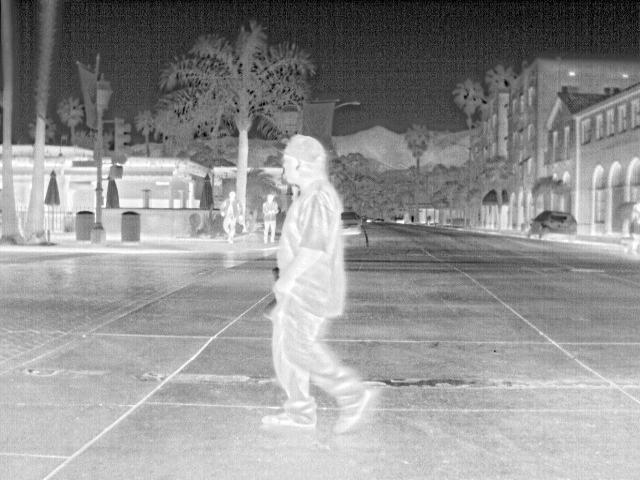car: (526, 210, 580, 243), (342, 209, 365, 237)
person: (260, 131, 375, 434), (218, 191, 244, 239), (262, 191, 280, 246), (628, 201, 640, 252)
